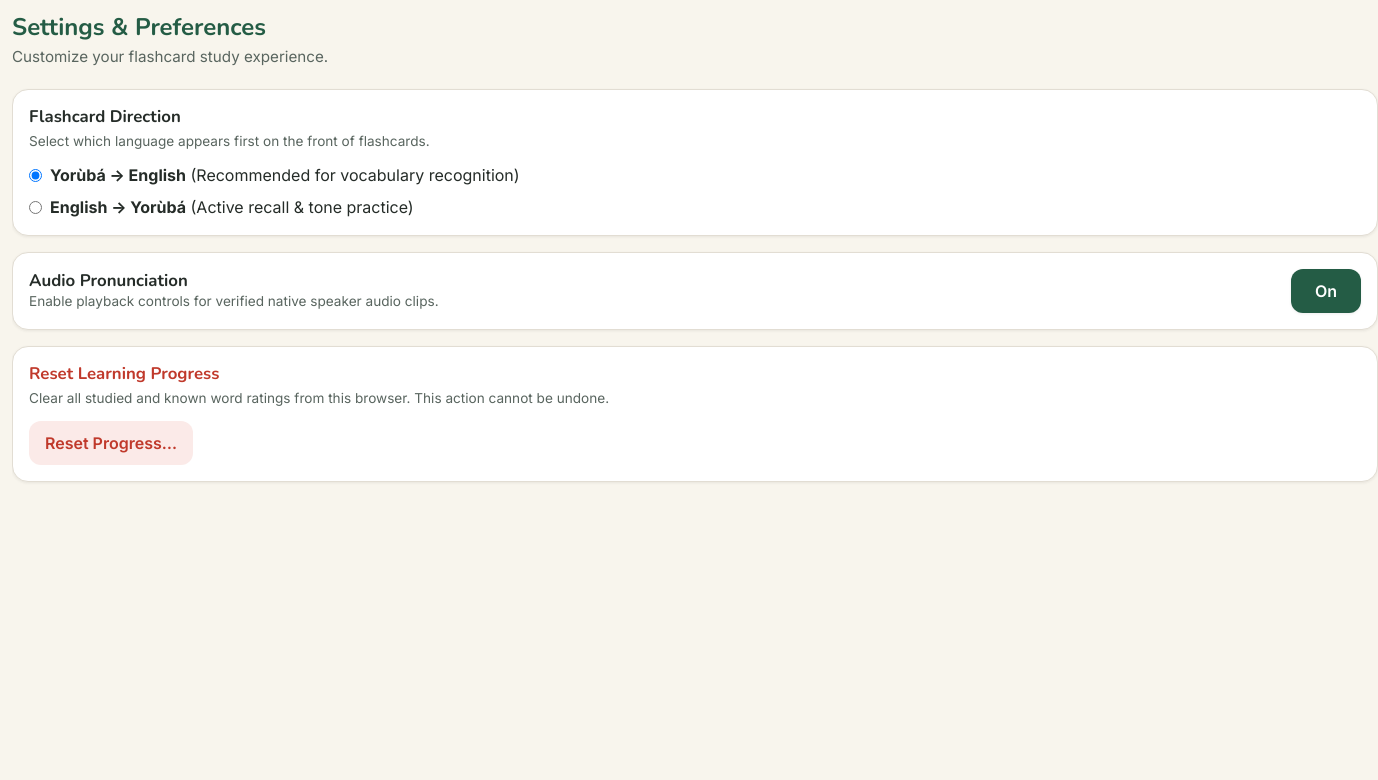
Test case: Settings, Storage Disclaimer, and Confirmed Reset › requires confirmation to reset progress, and Cancel preserves existing records
The image size is (1378, 780).
Later steps or results of the test are not shown.
// Click "Reset Progress..."
Click the button "Reset Progress…". click: (111, 442)
box: 29,420 -> 193,464
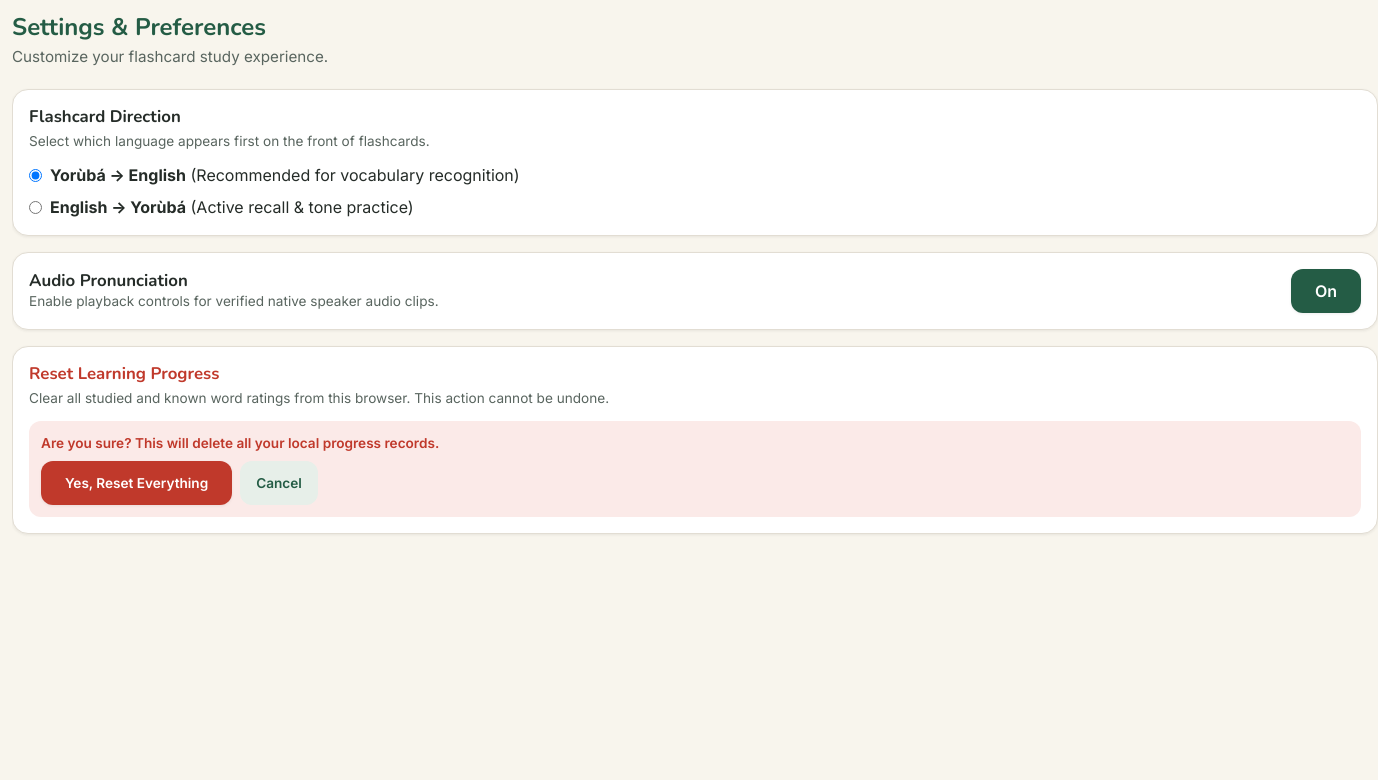
Check: the text "Are you sure? This will delete all your local progress records." is shown, box 41,434 -> 439,450
